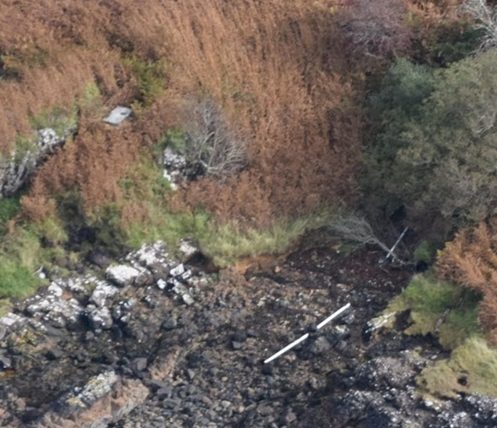tube: (300, 300, 350, 339), (263, 328, 309, 369)
